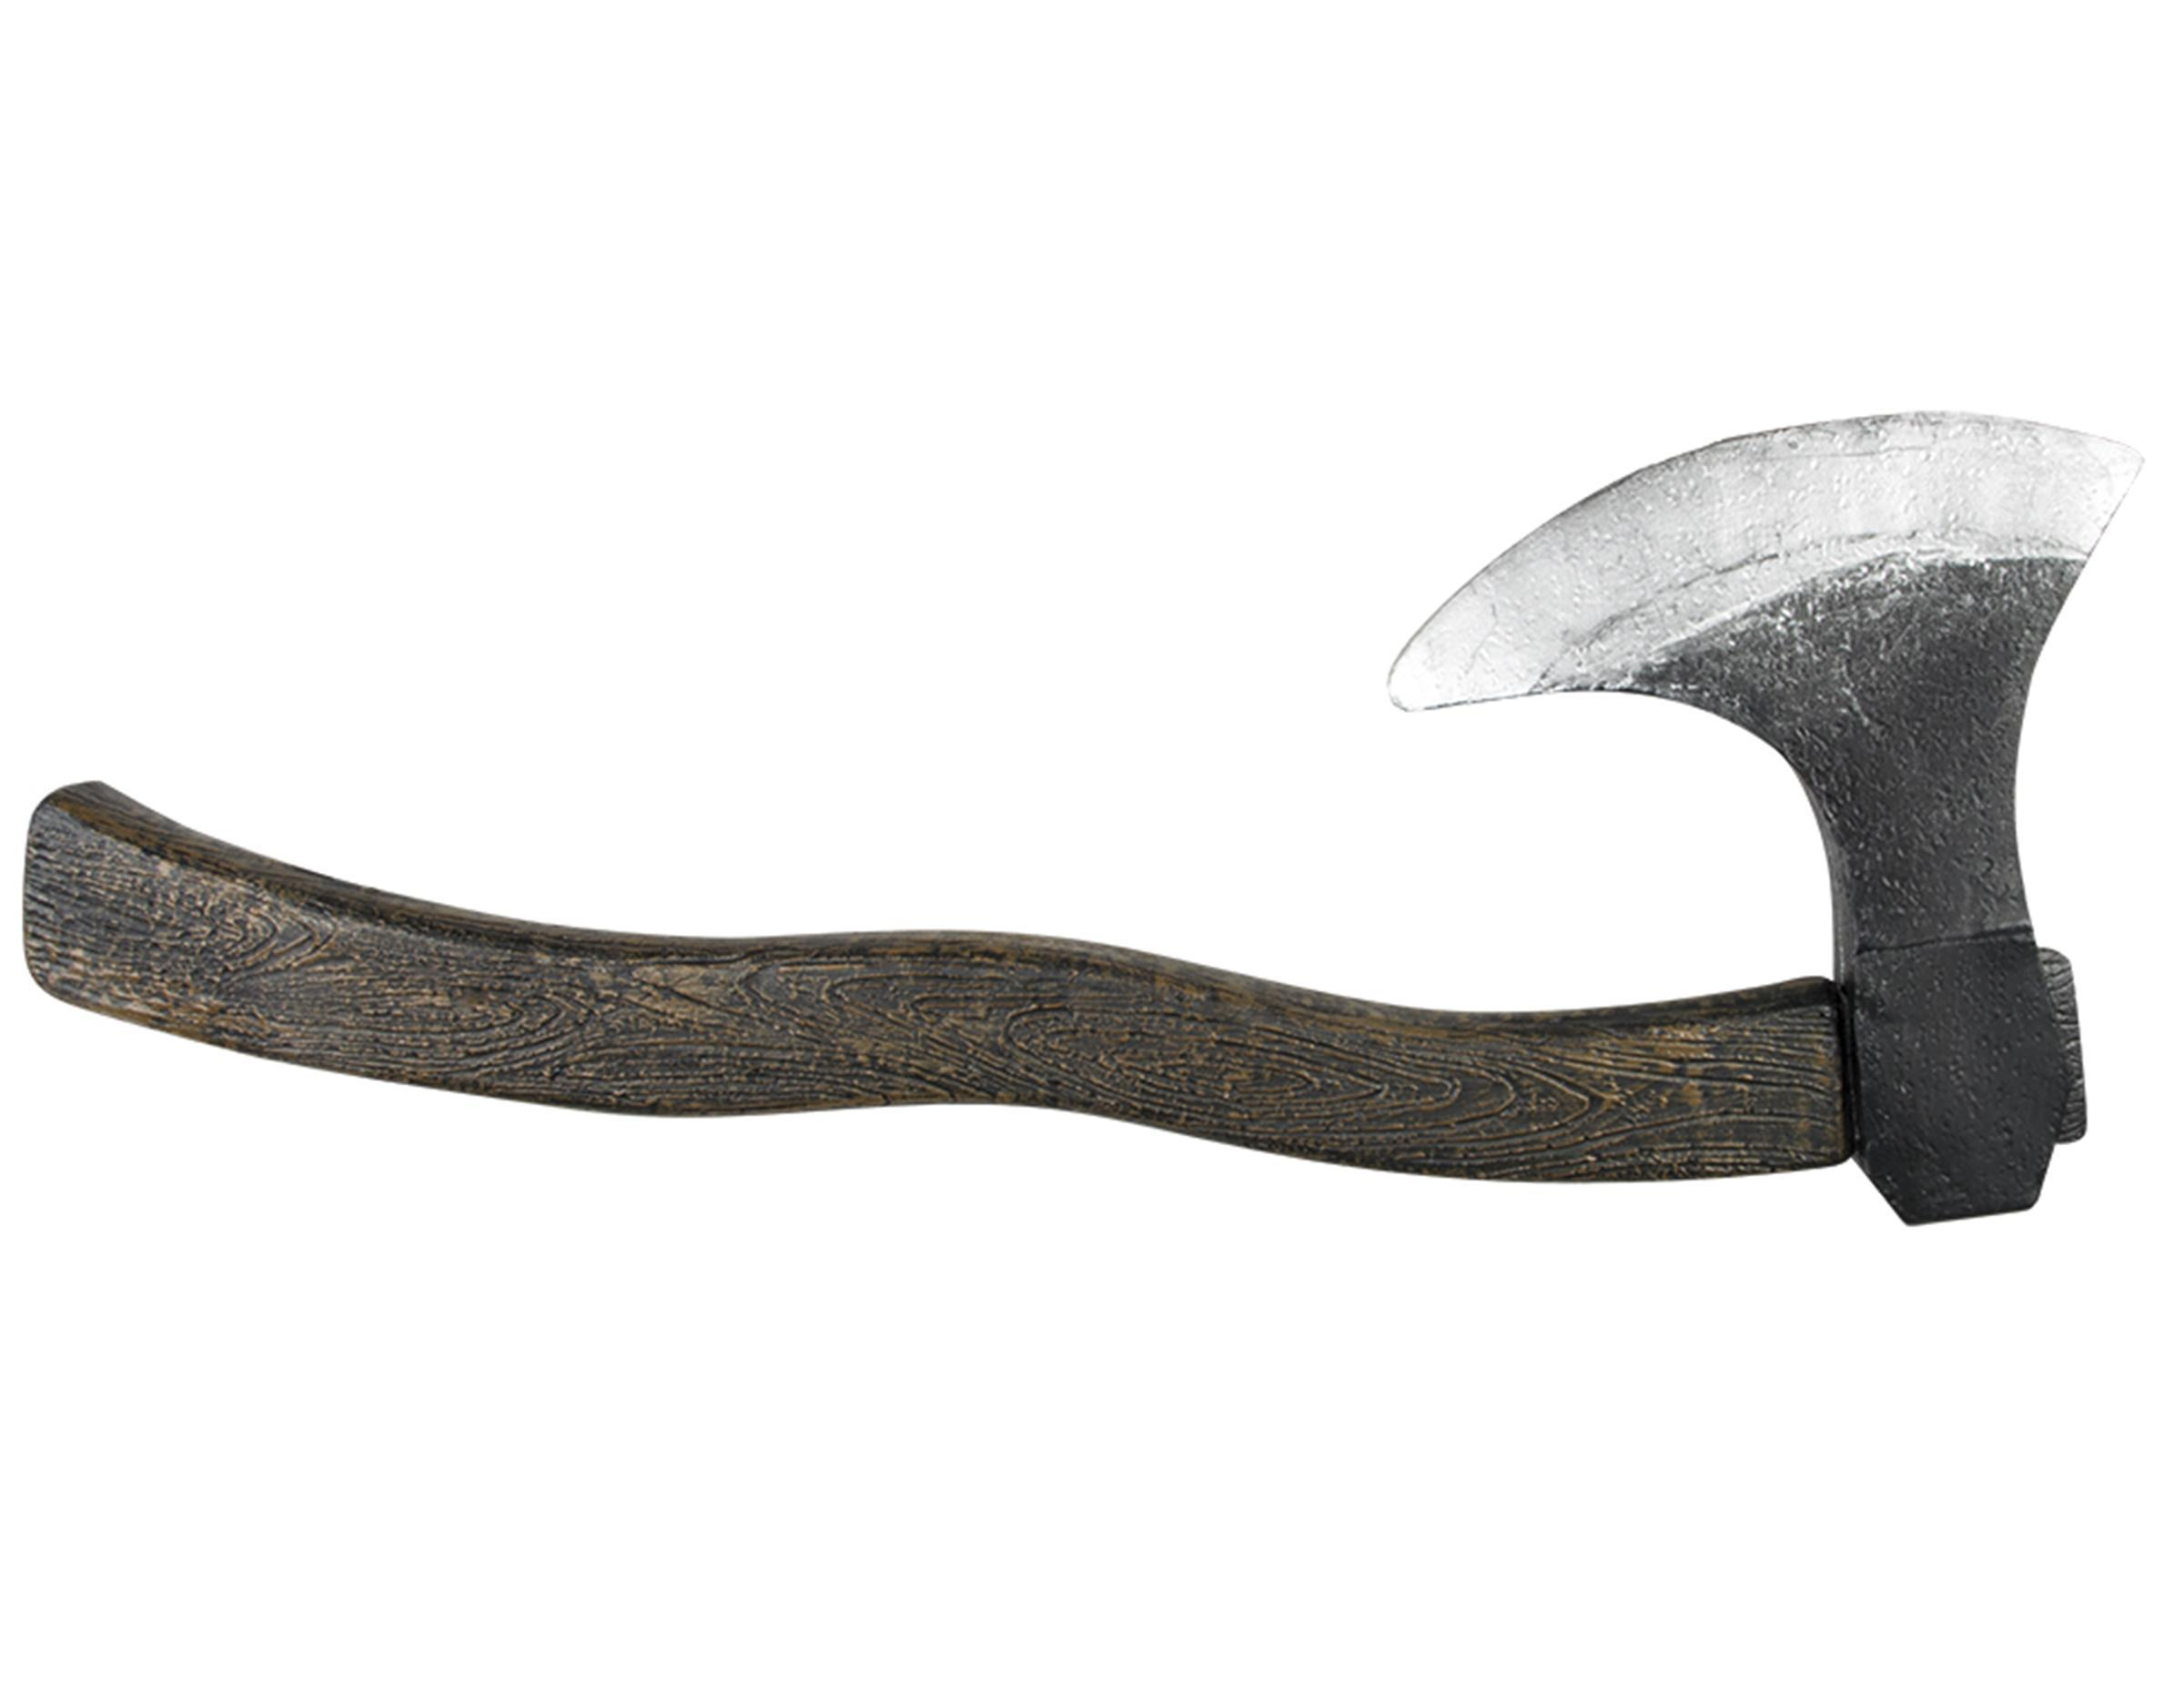machado: (23, 416, 2136, 1224)
